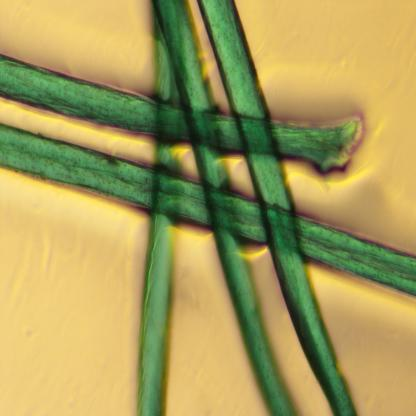Microfibre: (0, 122, 416, 298), (198, 0, 358, 416), (152, 1, 300, 415), (0, 53, 362, 177), (134, 26, 185, 414)
